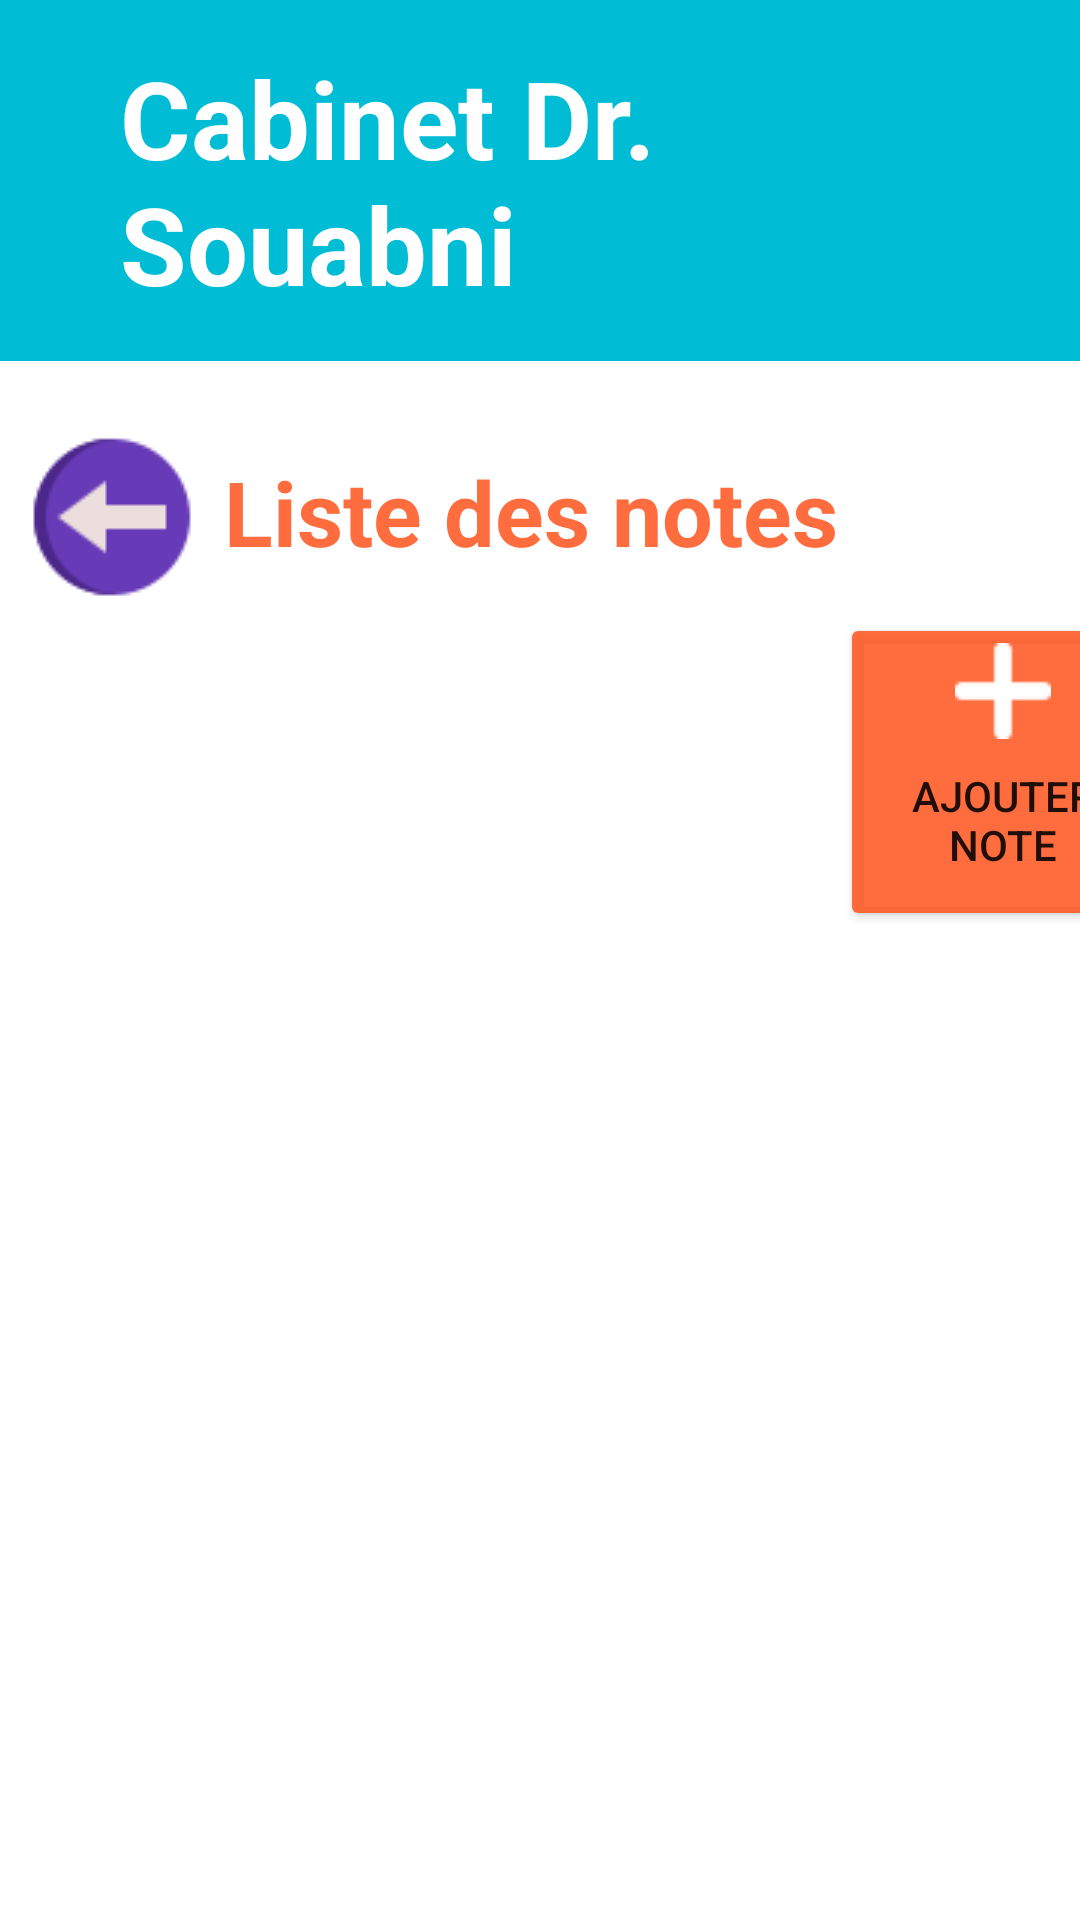

Where icons sit on this 1080px×1920px app screen, as (x1, y1, x2, y2):
backviolet: (33, 438, 191, 596)
